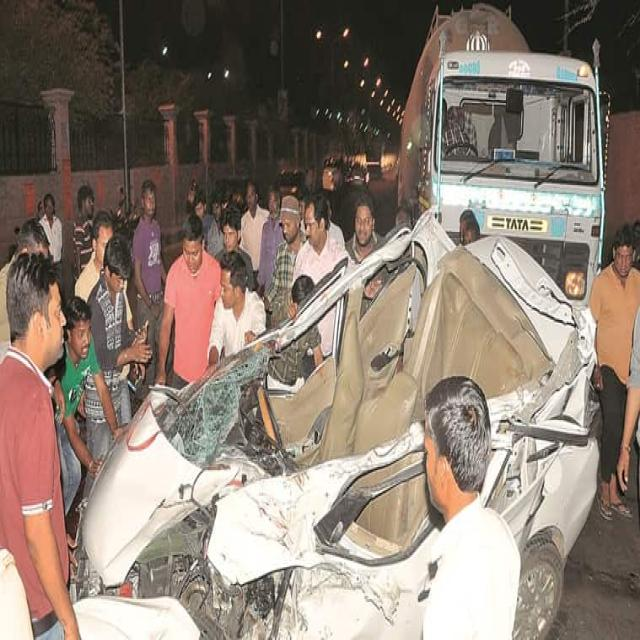accident: (74, 211, 599, 637)
truck: (399, 4, 605, 304)
